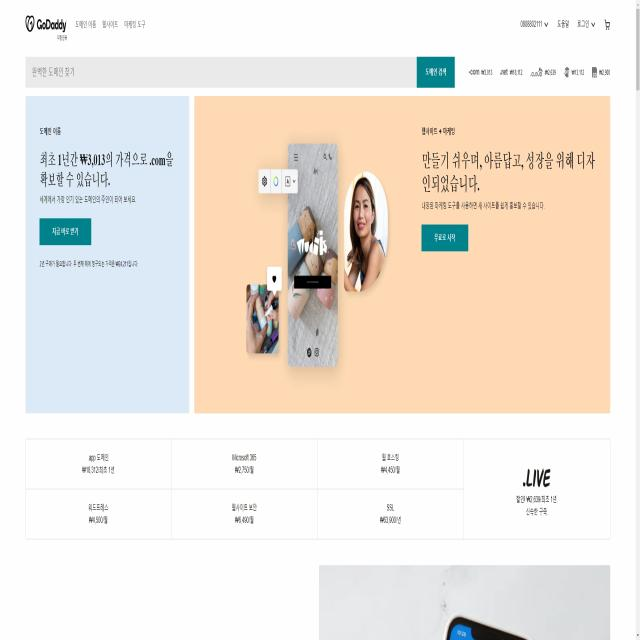menu-bar: (515, 10, 614, 40)
search: (24, 53, 457, 91)
tab-bar: (19, 10, 147, 42)
